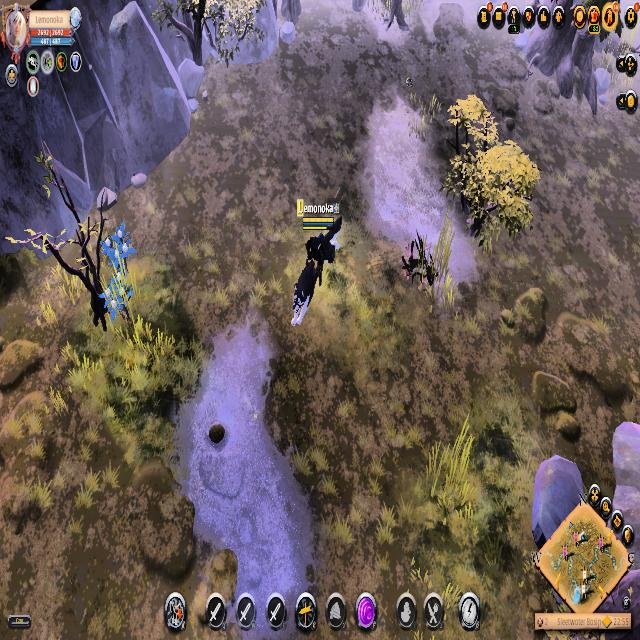fiber tier 4: (102, 218, 136, 273)
